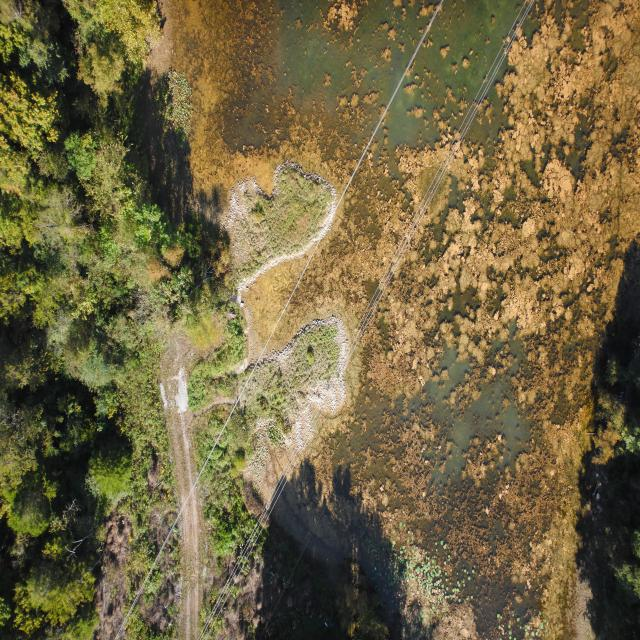Area of Interest: (0, 20, 229, 627)
